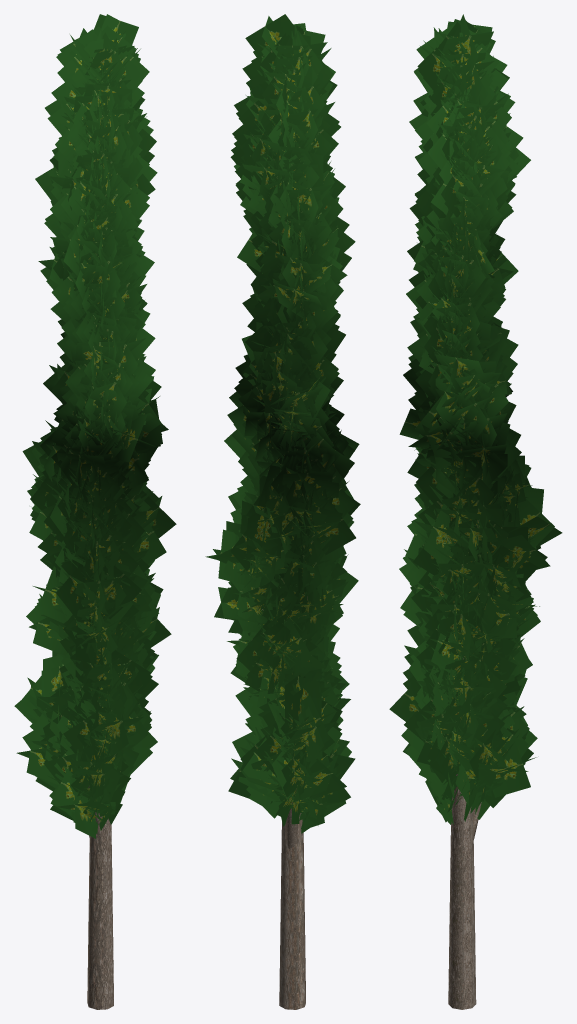
The model's file is poplar_lod0.glb.
The picture shows the model from 3 angles, left to right: view 1: azimuth 30°, elevation 25°; view 2: azimuth 150°, elevation 25°; view 3: azimuth 270°, elevation 25°; orthographic projection.
Visible parts, largest first — view 1: leaves, bark; view 2: leaves, bark; view 3: leaves, bark.
Boxes of the visible parts, <box> form: leaves: <box>14,14,176,838</box>; bark: <box>87,785,113,1009</box>; leaves: <box>205,14,360,833</box>; bark: <box>262,596,307,1009</box>; leaves: <box>389,14,562,824</box>; bark: <box>448,656,481,1009</box>.
Size of the model in its own units: 3.38 by 25 by 3.95.
Materials: 2 (2 with a texture image).
